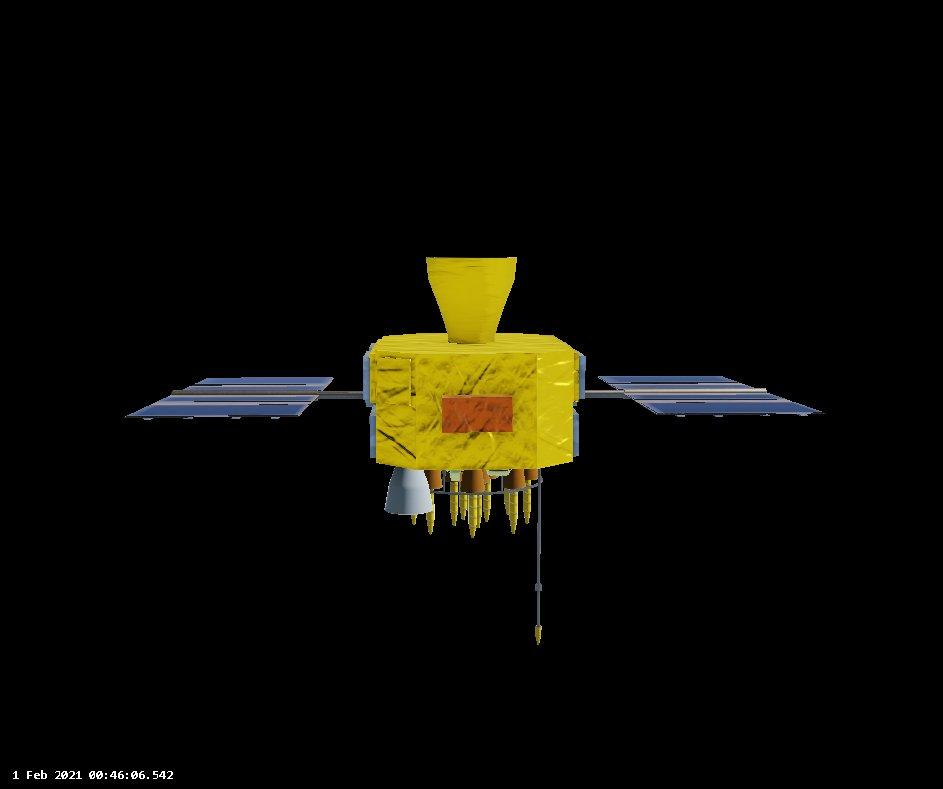antenna: (530, 468, 549, 650)
body: (360, 328, 585, 473)
solar: (593, 373, 831, 420), (123, 373, 334, 422)
thruster: (422, 253, 522, 346), (382, 462, 435, 519)
